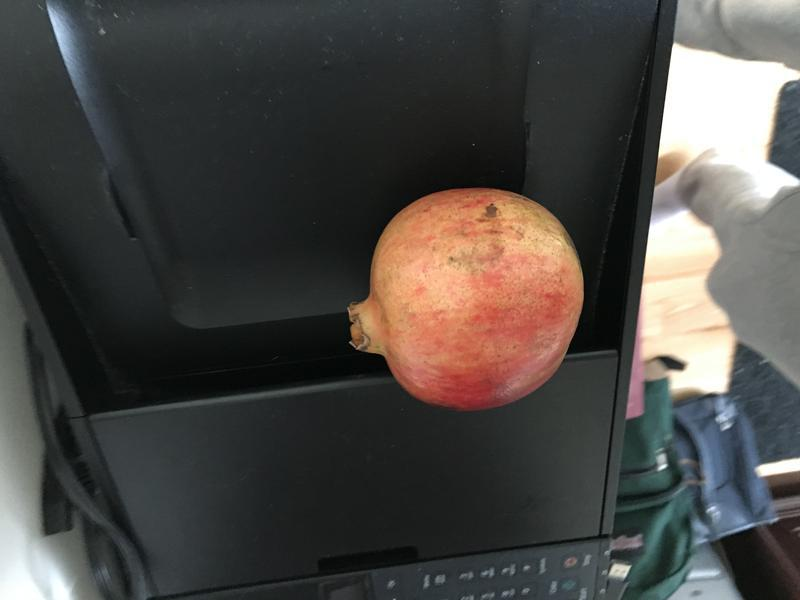pomegranate: (332, 170, 594, 412)
